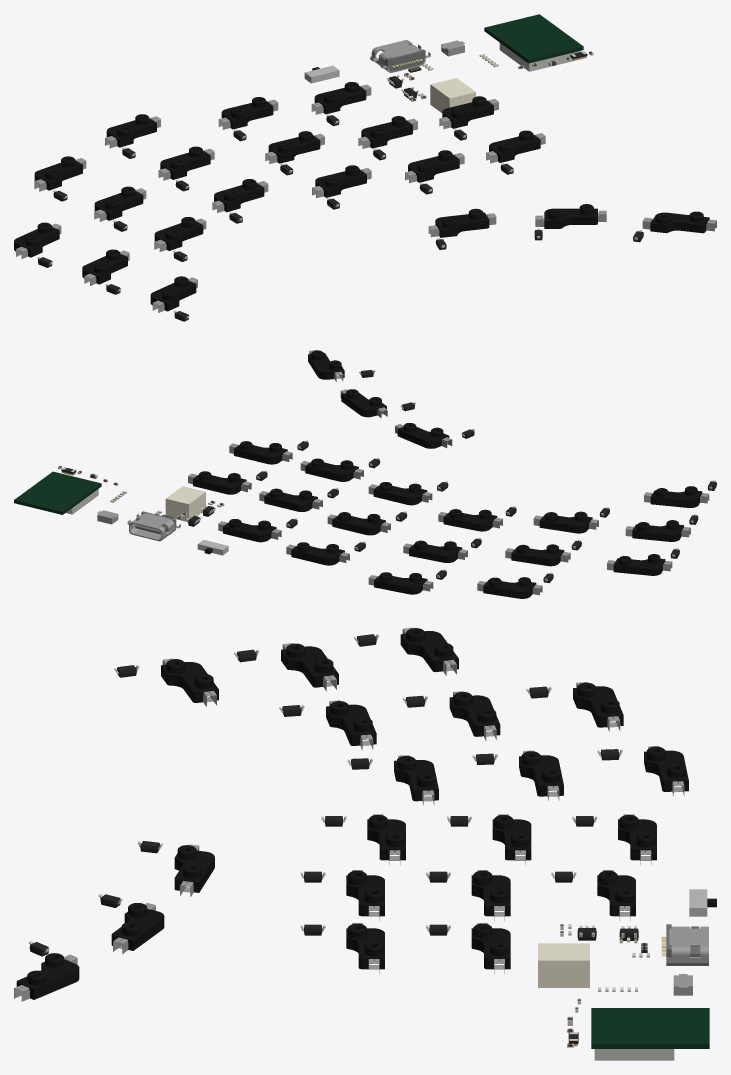
The model's file is parts.glb.
3 views of the same model, one above another, from view 1: azimuth 30°, elevation 25°; view 2: azimuth 150°, elevation 25°; view 3: azimuth 270°, elevation 25° (orthographic). The views are drawn at different scales.
Parts seen in each view (by area): view 1: =>[0:1:1:3] (×20), object 53, object 65, object 62; view 2: =>[0:1:1:3] (×20), object 53, object 65, object 62; view 3: =>[0:1:1:3] (×20), object 53, object 65, object 62.
Part boxes in pixels (x1,y1,x2,y2): =>[0:1:1:3] (×20): (14,82,716,312); object 53: (484,14,583,71); object 65: (304,49,587,112); object 62: (370,40,586,72); =>[0:1:1:3] (×20): (188,350,709,598); object 53: (14,471,101,514); object 65: (61,468,228,555); object 62: (62,467,180,541); =>[0:1:1:3] (×20): (14,627,688,1001); object 53: (591,1008,709,1060); object 65: (538,889,716,1046); object 62: (567,926,708,1040).
Bounding box in the file's own units: 0.1495 × 0.0062 × 0.1068.
